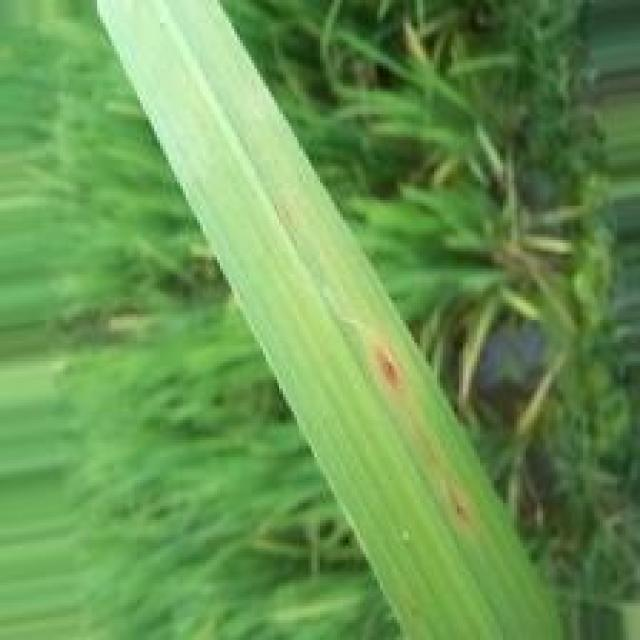Brown_Spot: (368, 330, 412, 407), (452, 499, 469, 522)
